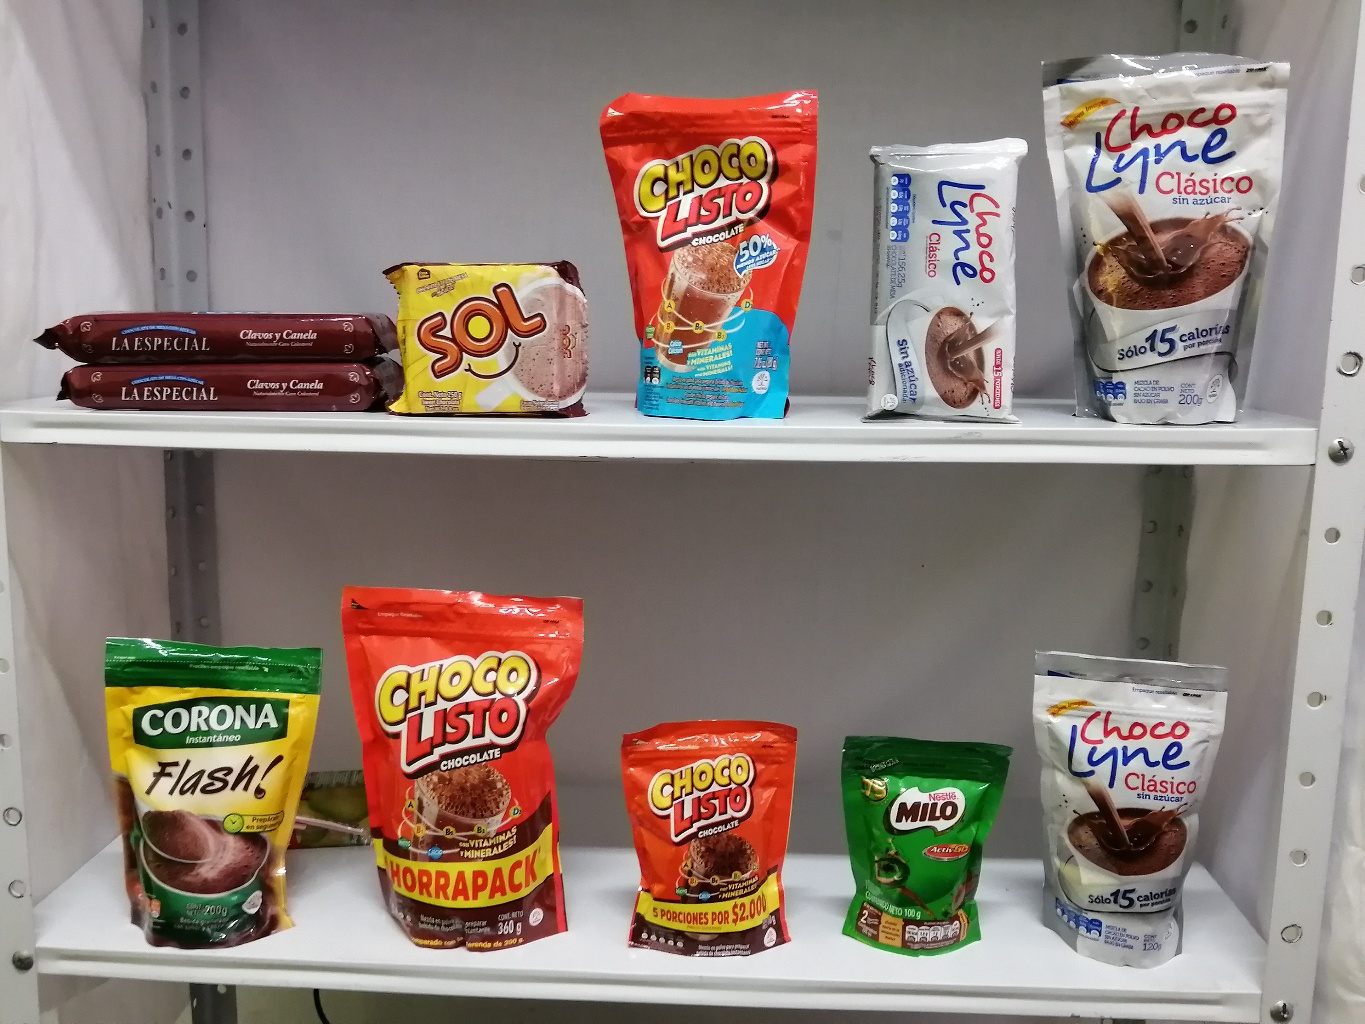COL0170103DYP36000: (329, 574, 601, 951)
COL0170104DYP20000: (583, 79, 843, 430)
COL0170203DYP10000: (817, 719, 1018, 966)
